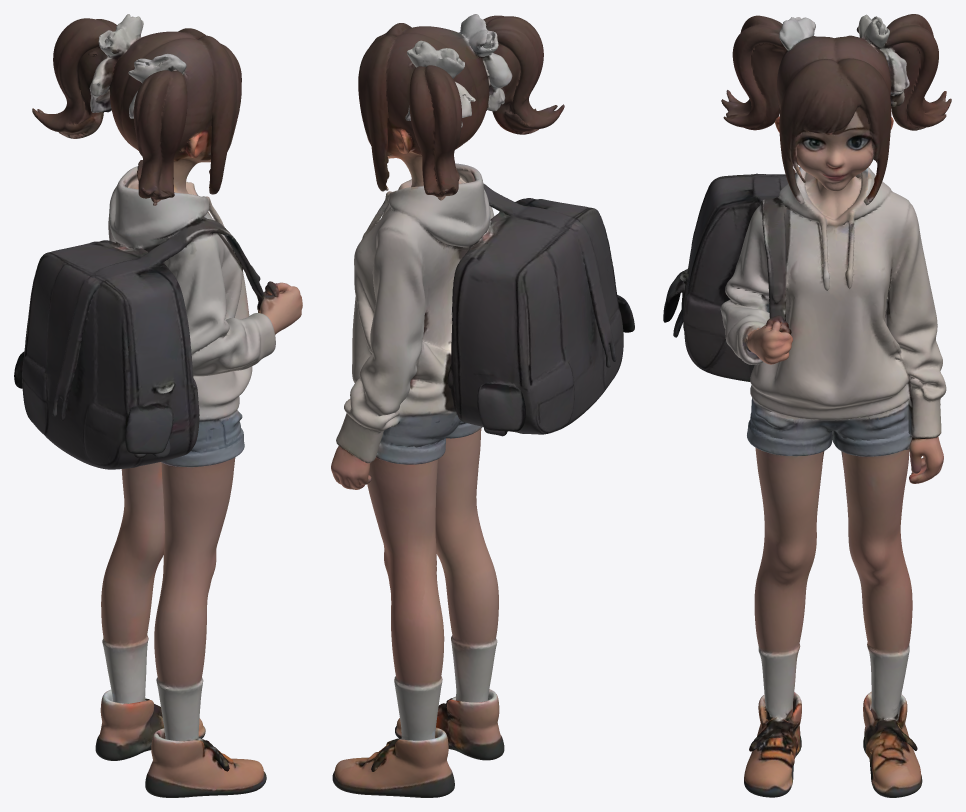
Rendered from animegirl.glb.
3 renders of one model, left to right at view 1: azimuth 30°, elevation 25°; view 2: azimuth 150°, elevation 25°; view 3: azimuth 270°, elevation 25°, orthographic.
Parts seen in each view (by area): view 1: Object_4; view 2: Object_4; view 3: Object_4.
Part boxes in pixels (box(x1,y1,x2,y2)): Object_4: box(14, 14, 302, 797); Object_4: box(331, 14, 634, 797); Object_4: box(663, 14, 951, 797).
Bounding box in the file's own units: 0.3507 × 1 × 0.3516.
1 material, 1 textured.
